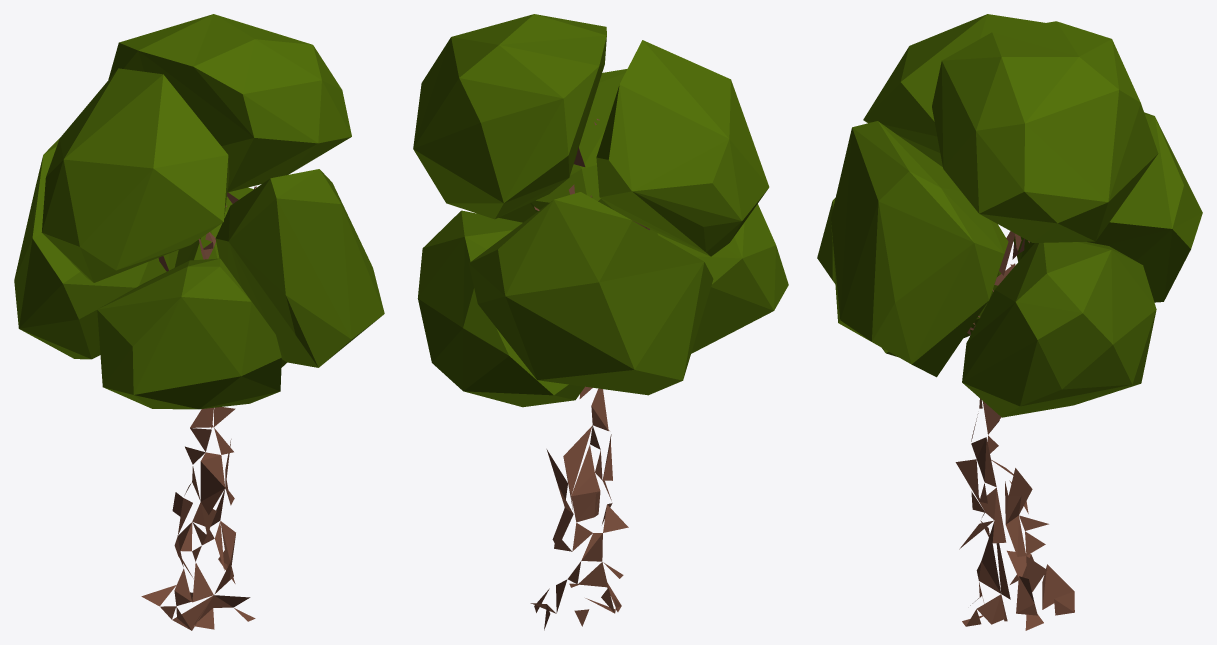
Rendered from megakit-CommonTree_1.glb.
3 views of the same model, side by side, from view 1: azimuth 30°, elevation 25°; view 2: azimuth 150°, elevation 25°; view 3: azimuth 270°, elevation 25° (orthographic). The views are drawn at different scales.
Parts seen in each view (by area): view 1: CommonTree_1.001; view 2: CommonTree_1.001; view 3: CommonTree_1.001.
Part boxes in pixels (x1,y1,x2,y2): CommonTree_1.001: (14,14,384,630); CommonTree_1.001: (413,14,788,630); CommonTree_1.001: (817,14,1202,630).
Bounding box in the file's own units: 4.06 × 7.17 × 4.31.
